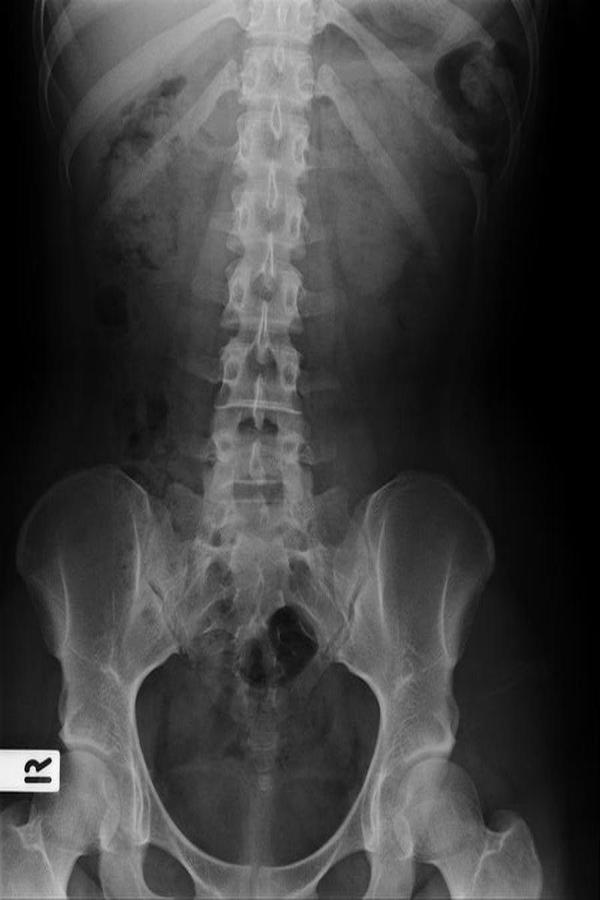lumbar scoliosis: (208, 5, 317, 557)
